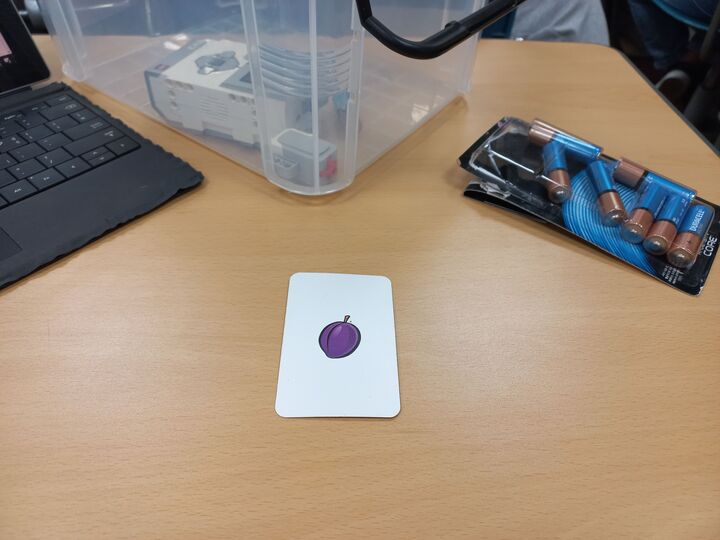plum1: (274, 270, 403, 421)
